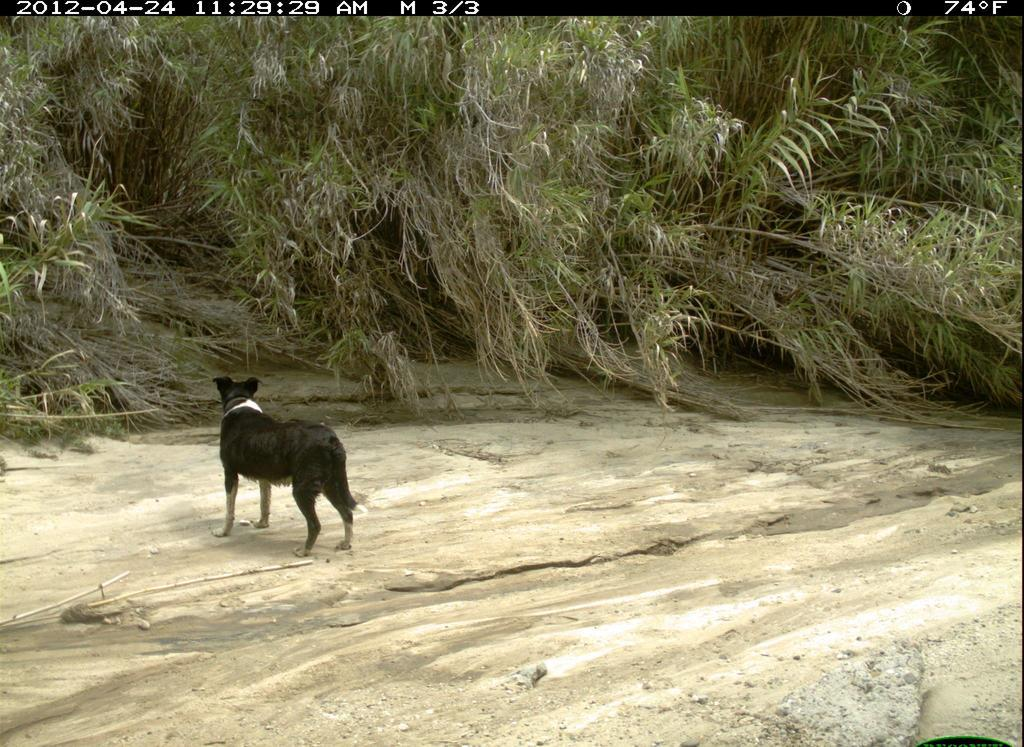dog: (207, 364, 368, 570)
